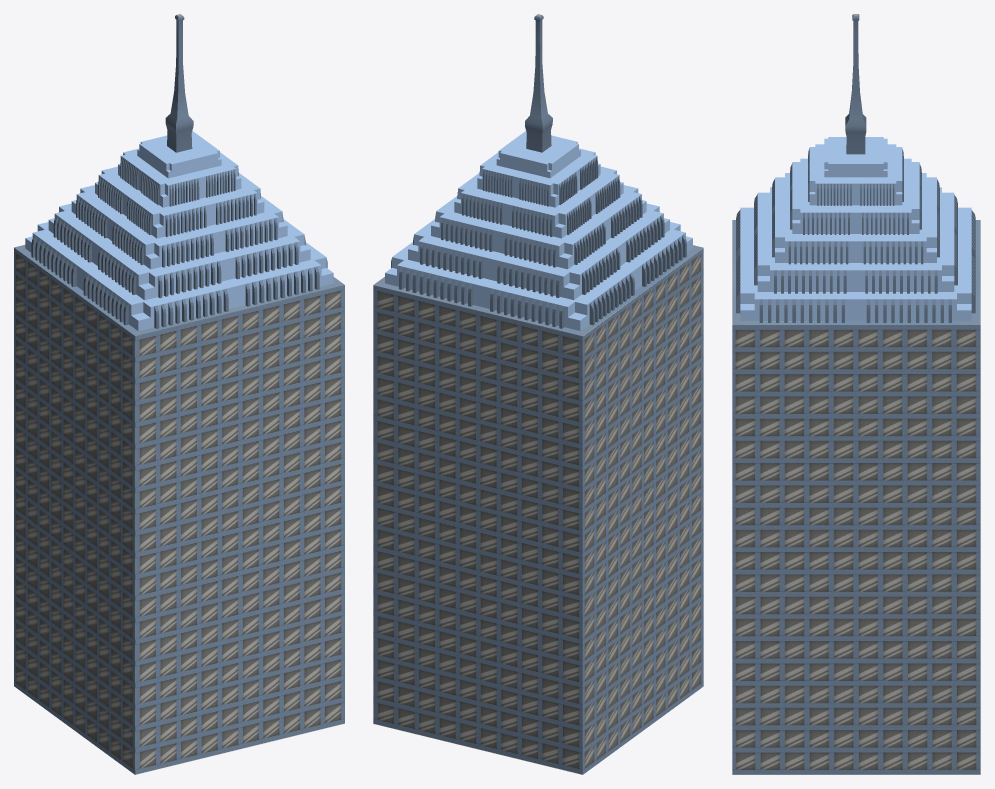
File: PROP_skyscraper.fbx
3 renders of one model, left to right at view 1: azimuth 30°, elevation 25°; view 2: azimuth 150°, elevation 25°; view 3: azimuth 270°, elevation 25°, orthographic. The views are drawn at different scales.
Visible parts, largest first — view 1: PROP_skyscraper; view 2: PROP_skyscraper; view 3: PROP_skyscraper.
Part boxes in pixels (x1=…): PROP_skyscraper: x1=14, y1=14, x2=344, y2=774; PROP_skyscraper: x1=373, y1=14, x2=703, y2=774; PROP_skyscraper: x1=732, y1=14, x2=980, y2=774.
Size of the model in its own units: 1000 by 3144 by 1000.
